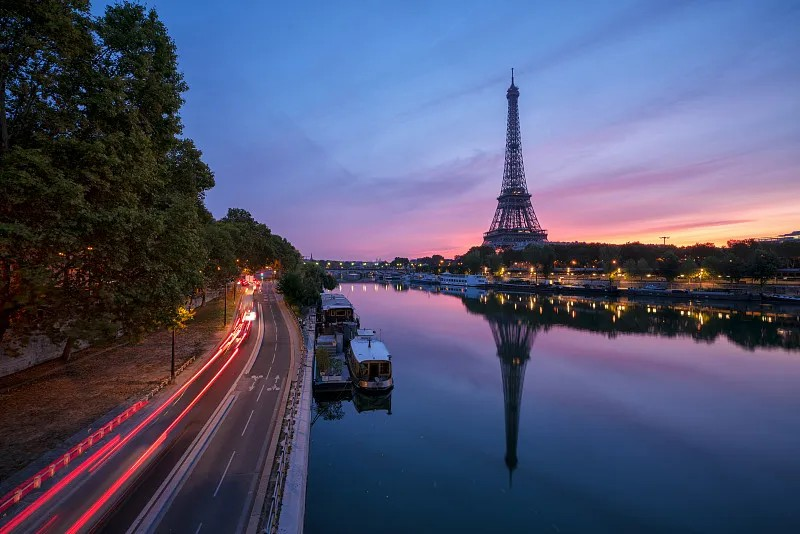Eiffel: (480, 69, 549, 250)
